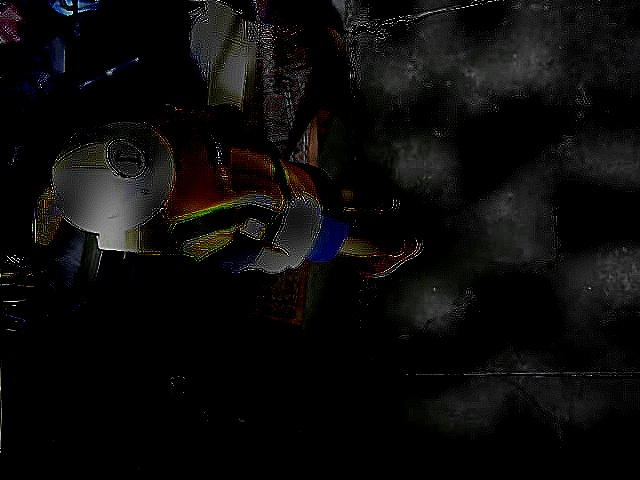one: (106, 138, 147, 178)
